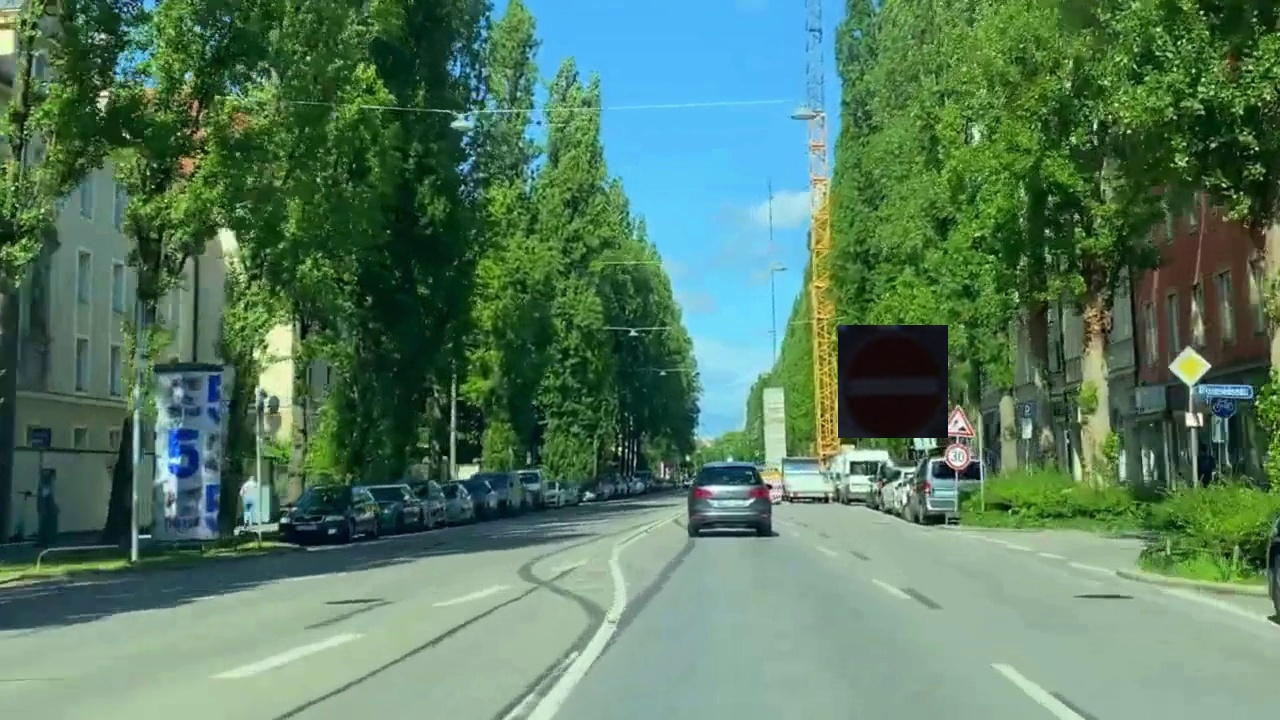No entry: (838, 325, 948, 438)
